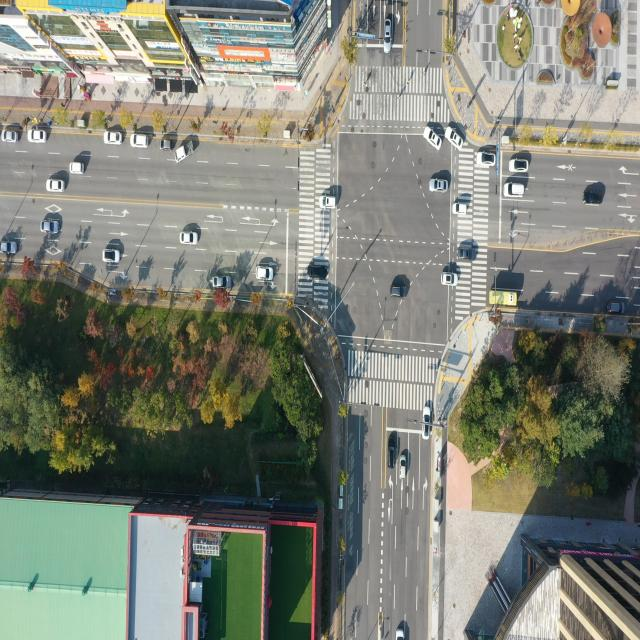car: (424, 128, 444, 150), (447, 127, 466, 149), (476, 150, 499, 167), (505, 181, 527, 198), (307, 262, 328, 279), (388, 435, 398, 469), (46, 178, 66, 194), (510, 158, 530, 174), (423, 402, 431, 440), (131, 134, 151, 149), (431, 178, 450, 193), (41, 219, 60, 234), (584, 190, 604, 204), (457, 247, 477, 261), (212, 276, 232, 290), (180, 232, 198, 247), (442, 272, 460, 287), (103, 249, 121, 264), (452, 202, 470, 217), (104, 132, 123, 146), (28, 130, 47, 144), (383, 21, 391, 54), (258, 268, 275, 283), (1, 241, 18, 256), (399, 451, 408, 479), (2, 130, 20, 144), (319, 196, 337, 210), (390, 285, 408, 298), (70, 162, 85, 176), (160, 139, 173, 151), (396, 629, 404, 640)
small_bus: (489, 290, 517, 310)
small_truck: (174, 139, 196, 164)
